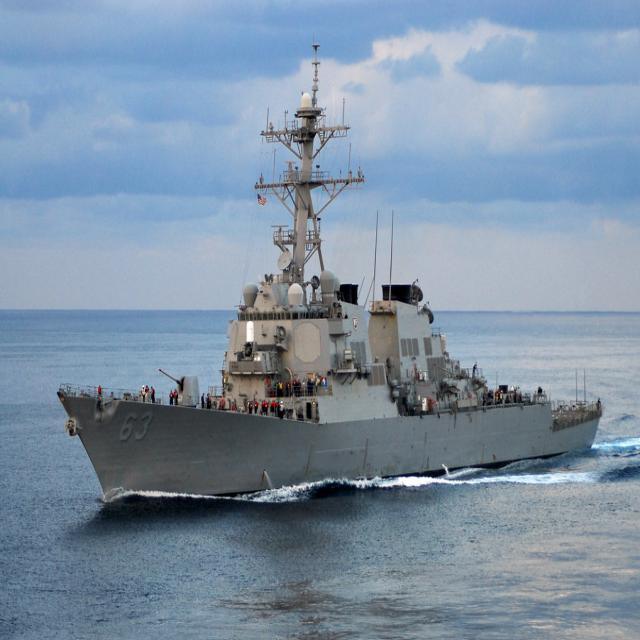navalvessels: (39, 14, 612, 520)
